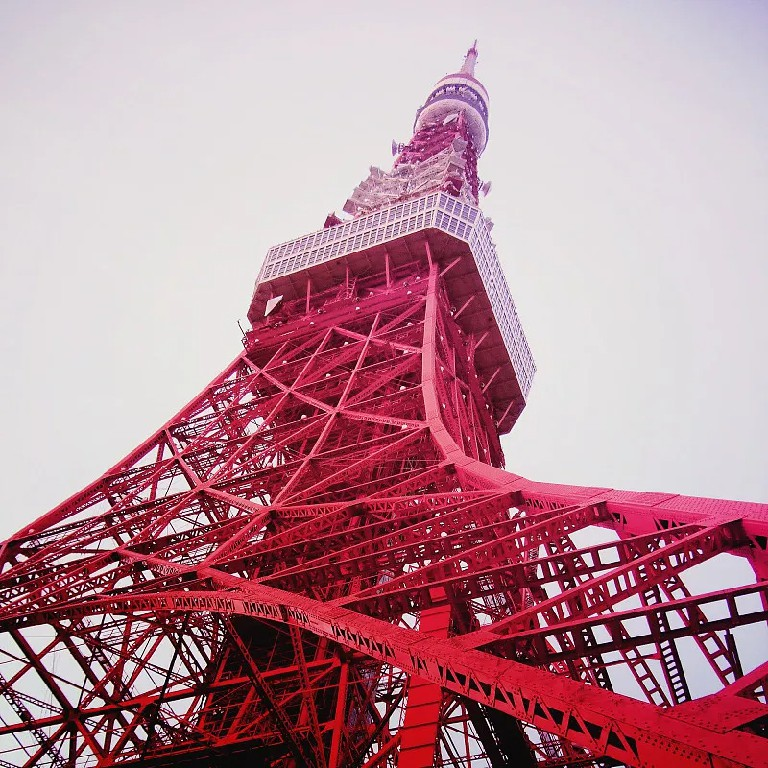Tokyo: (1, 33, 768, 768)
